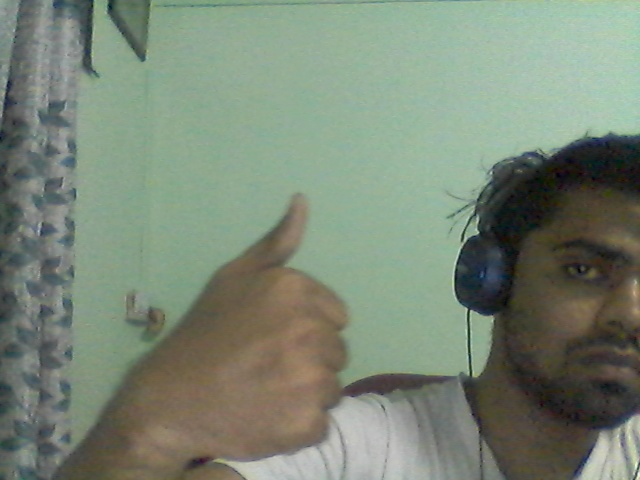Yes: (89, 155, 416, 480)
